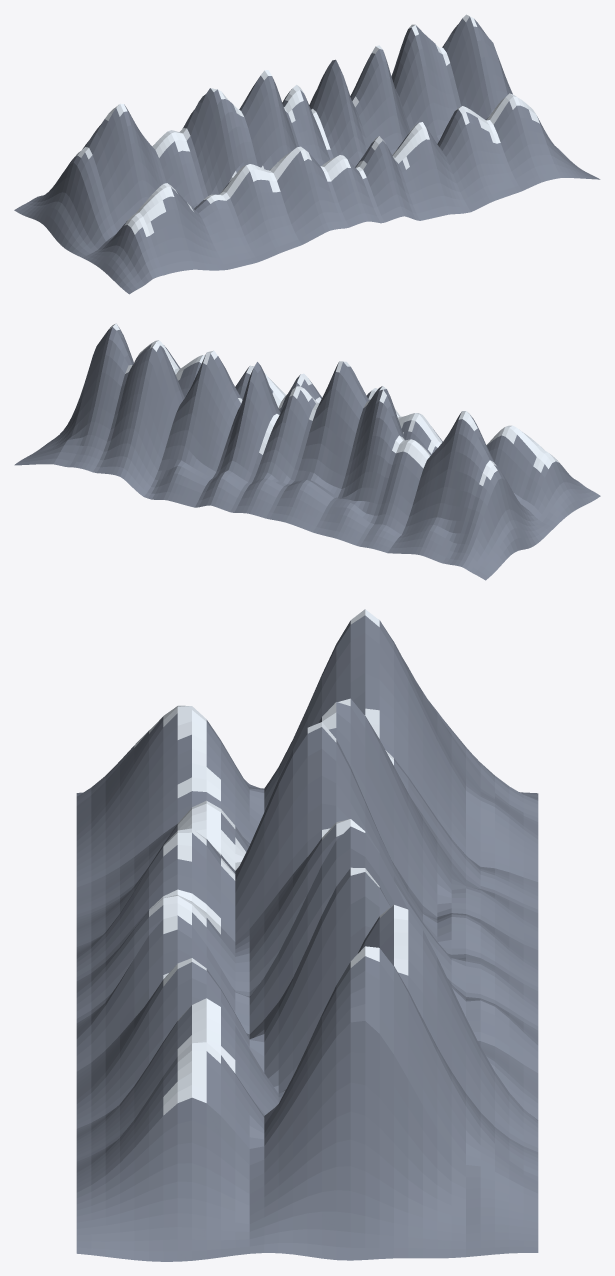
File: Ridge1.fbx
3 renders of one model, top to bottom at view 1: azimuth 30°, elevation 25°; view 2: azimuth 150°, elevation 25°; view 3: azimuth 270°, elevation 25°, orthographic. The views are drawn at different scales.
Parts seen in each view (by area): view 1: LayeredAlpineRidge; view 2: LayeredAlpineRidge; view 3: LayeredAlpineRidge.
Boxes of the visible parts, x1,y1,x2,y2 form: LayeredAlpineRidge: [14, 14, 600, 294]; LayeredAlpineRidge: [14, 323, 600, 580]; LayeredAlpineRidge: [76, 609, 538, 1261].
Bounding box in the file's own units: 1700 × 467 × 720.
